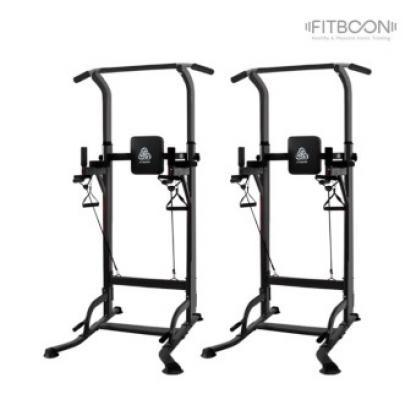chinning dipping: (43, 63, 215, 375), (204, 63, 373, 376)
